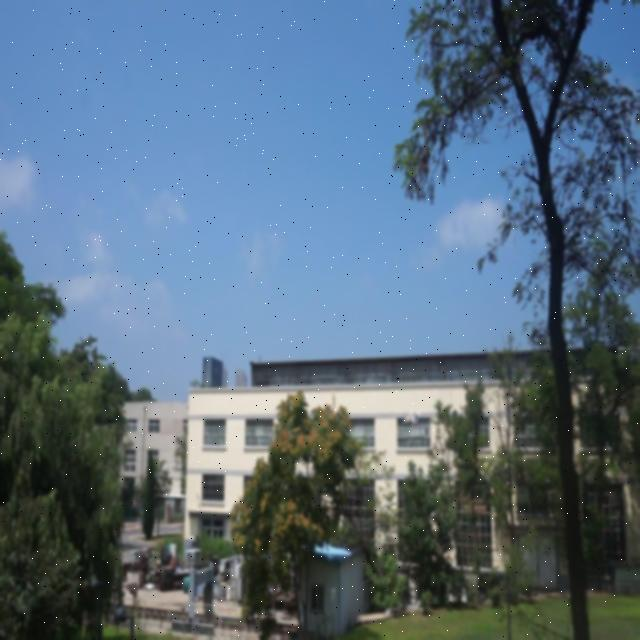UAV: (403, 412, 421, 428)
